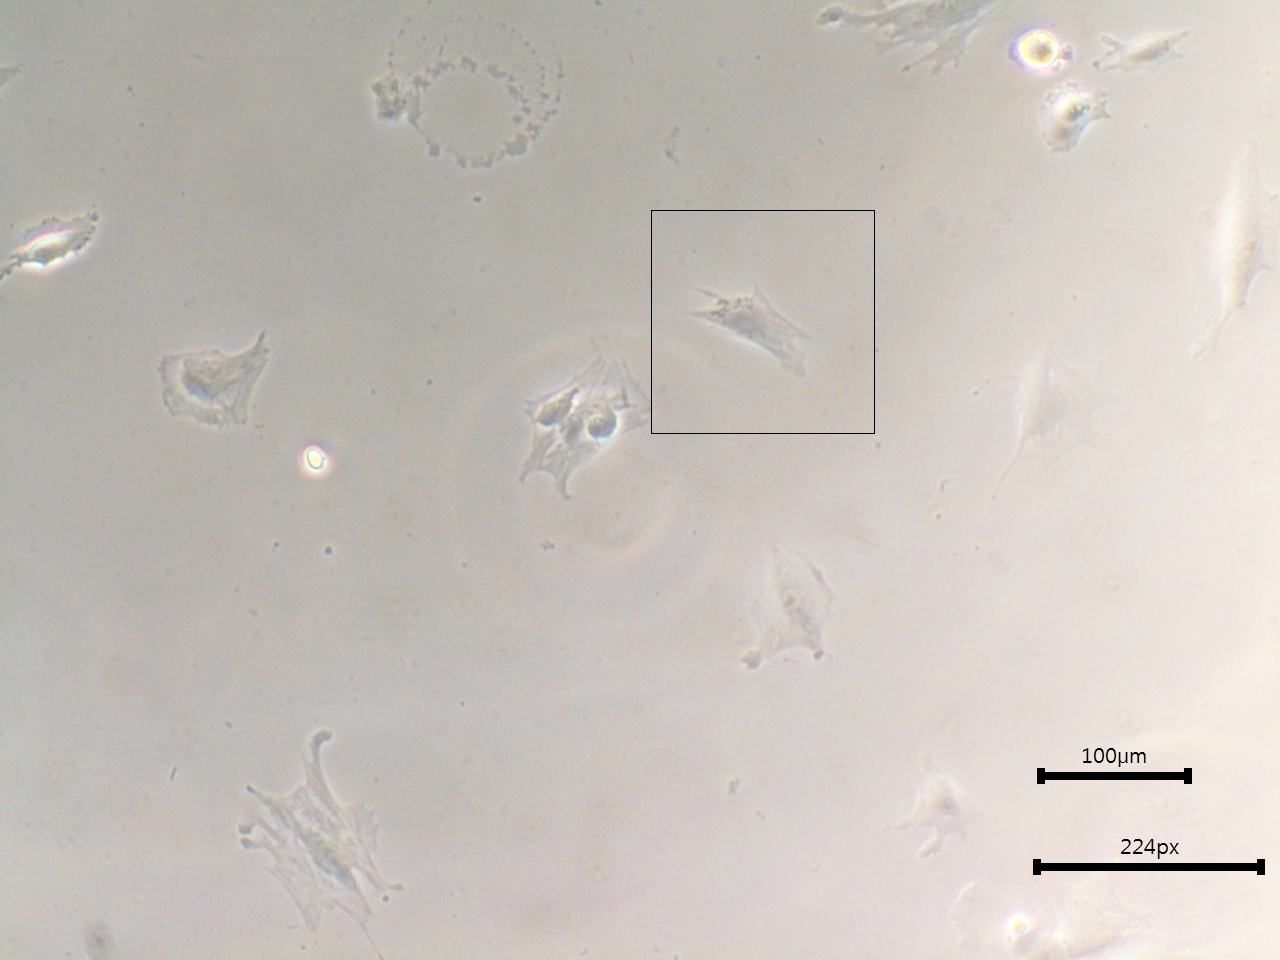medium-spread: (220, 716, 423, 960), (721, 530, 856, 699)
small-round: (300, 445, 333, 478)
